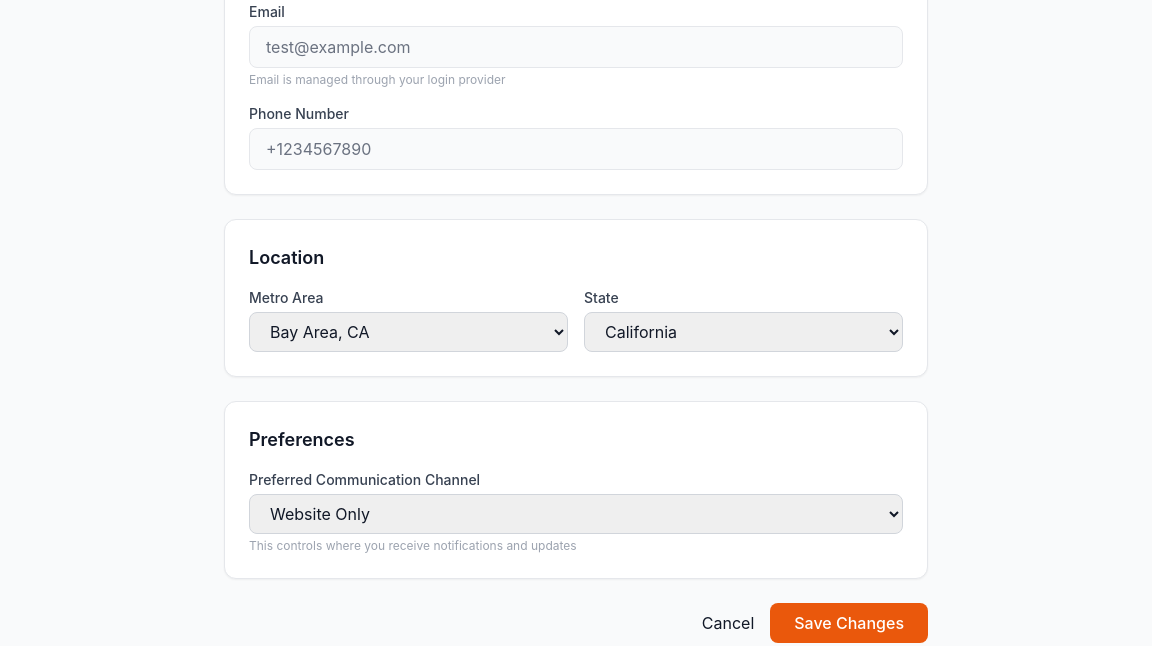
Test case: EditProfilePage › Failed Submission › shows generic error message when API returns non-JSON response
The image size is (1152, 646).
(page scrolled)
Click the button "Save Changes" at (849, 623), box [770, 603, 928, 643]
(page scrolled)
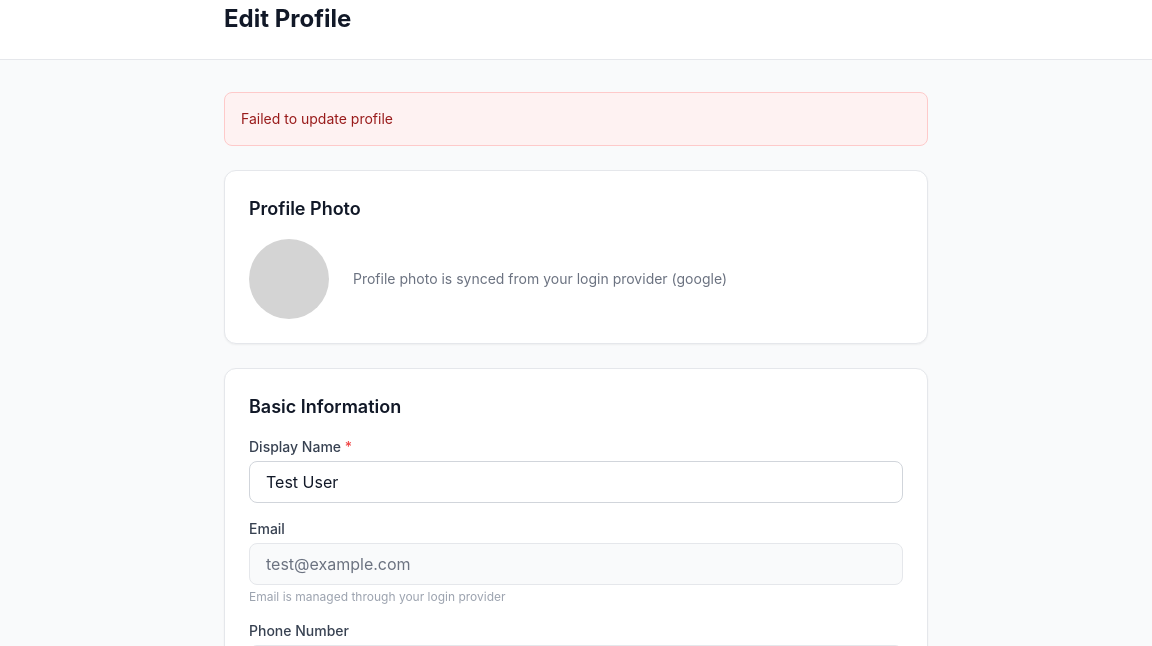
Now the text "Failed to update profile" is shown, box [224, 92, 928, 146]
